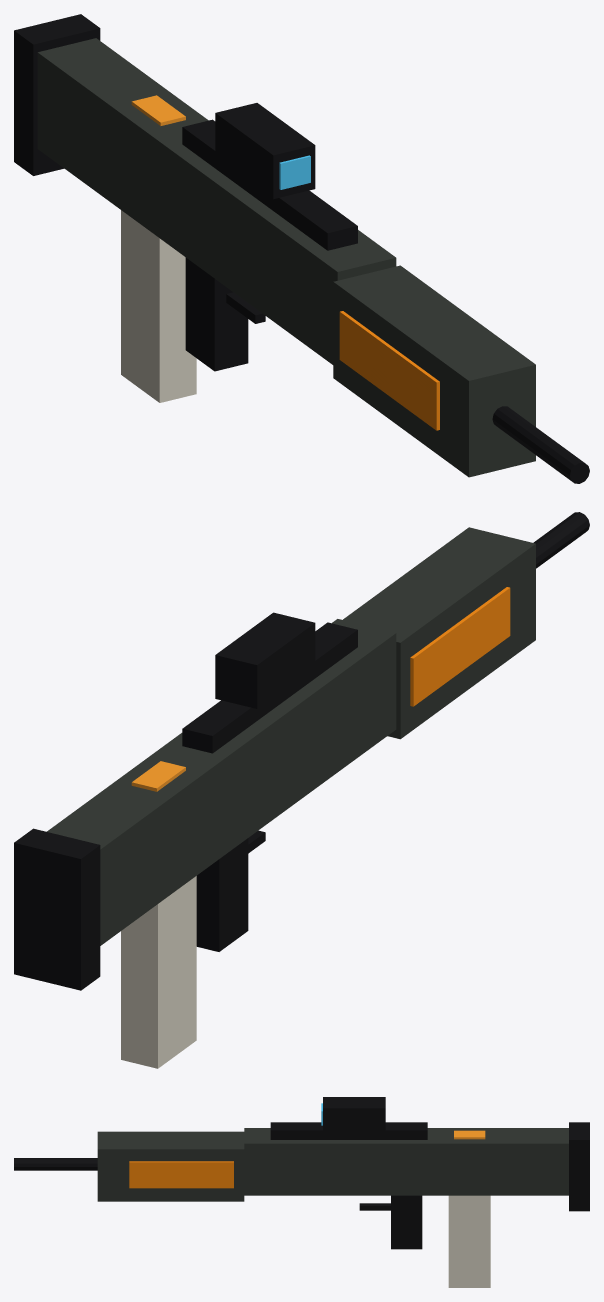
Rendered from weapon_F1_AssaultRifle.obj.
3 views of the same model, one above another, from view 1: azimuth 30°, elevation 25°; view 2: azimuth 150°, elevation 25°; view 3: azimuth 270°, elevation 25° (orthographic). The views are drawn at different scales.
Parts seen in each view (by area): view 1: F1_AssaultRifle_WBody, F1_AssaultRifle_WDark, F1_AssaultRifle_Mag, F1_AssaultRifle_WAccent, F1_AssaultRifle_Energy, F1_AssaultRifle_Optic; view 2: F1_AssaultRifle_WBody, F1_AssaultRifle_WDark, F1_AssaultRifle_Mag, F1_AssaultRifle_WAccent, F1_AssaultRifle_Energy; view 3: F1_AssaultRifle_WBody, F1_AssaultRifle_WDark, F1_AssaultRifle_Mag, F1_AssaultRifle_WAccent, F1_AssaultRifle_Energy.
Boxes of the visible parts, x1,y1,x2,y2 form: F1_AssaultRifle_WBody: (37, 38, 535, 477); F1_AssaultRifle_WDark: (14, 14, 589, 483); F1_AssaultRifle_Mag: (121, 210, 196, 402); F1_AssaultRifle_WAccent: (339, 311, 439, 430); F1_AssaultRifle_Energy: (131, 95, 185, 125); F1_AssaultRifle_Optic: (279, 155, 310, 189); F1_AssaultRifle_WBody: (47, 527, 535, 945); F1_AssaultRifle_WDark: (14, 512, 589, 990); F1_AssaultRifle_Mag: (121, 876, 196, 1068); F1_AssaultRifle_WAccent: (410, 587, 510, 706); F1_AssaultRifle_Energy: (131, 761, 185, 791); F1_AssaultRifle_WBody: (97, 1128, 568, 1201); F1_AssaultRifle_WDark: (14, 1097, 589, 1249); F1_AssaultRifle_Mag: (448, 1195, 490, 1287); F1_AssaultRifle_WAccent: (129, 1161, 233, 1188); F1_AssaultRifle_Energy: (454, 1130, 485, 1139).
Size of the model in its own units: 0.088 by 0.38 by 1.1.
